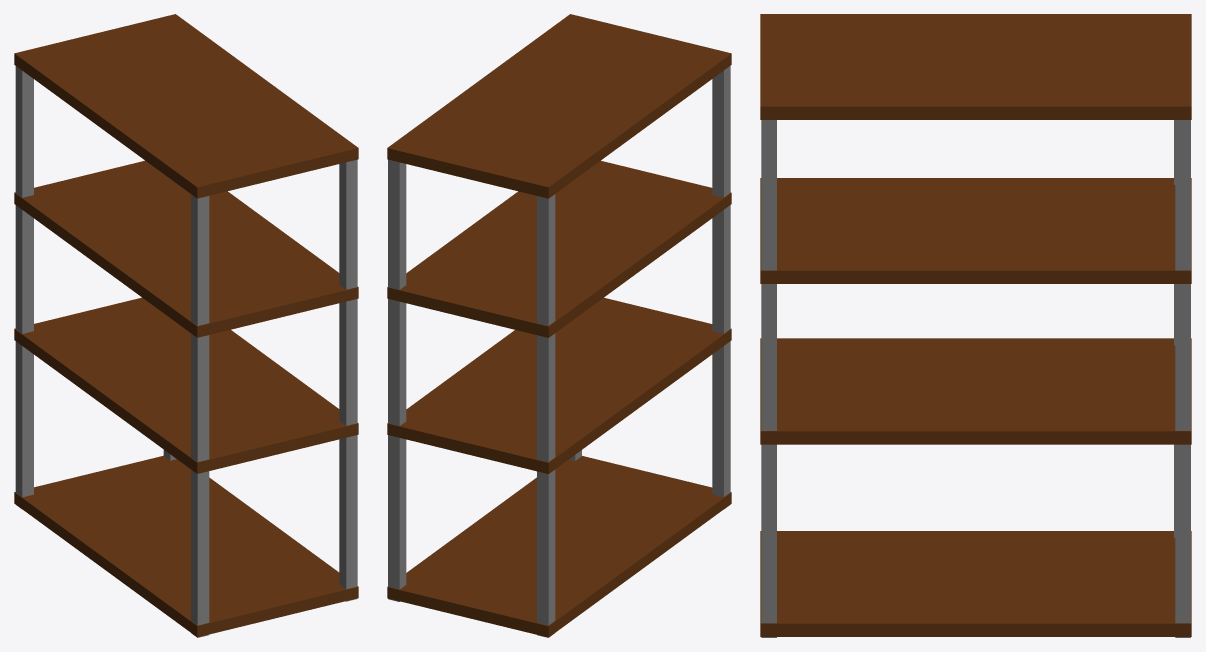
File: Analog_TV_Stand.fbx
The picture shows the model from 3 angles, left to right: view 1: azimuth 30°, elevation 25°; view 2: azimuth 150°, elevation 25°; view 3: azimuth 270°, elevation 25°; orthographic projection. The views are drawn at different scales.
Visible parts, largest first — view 1: Cube, Cube.004, Cube.002, Cube.003, Cube.007, Cube.006, Cube.008; view 2: Cube, Cube.004, Cube.002, Cube.003, Cube.008, Cube.005, Cube.007; view 3: Cube, Cube.003, Cube.002, Cube.004, Cube.005, Cube.006.
Boxes of the visible parts, <box> form: Cube: <box>14,14,358,198</box>; Cube.004: <box>14,455,358,637</box>; Cube.002: <box>14,160,358,337</box>; Cube.003: <box>14,297,358,473</box>; Cube.007: <box>191,194,209,637</box>; Cube.006: <box>339,159,357,601</box>; Cube.008: <box>15,66,33,509</box>; Cube: <box>387,14,731,198</box>; Cube.004: <box>387,456,731,637</box>; Cube.002: <box>387,160,731,337</box>; Cube.003: <box>387,297,731,473</box>; Cube.008: <box>537,194,555,637</box>; Cube.005: <box>388,159,406,601</box>; Cube.007: <box>712,66,730,508</box>; Cube: <box>760,14,1191,119</box>; Cube.003: <box>760,338,1191,444</box>; Cube.002: <box>760,178,1191,283</box>; Cube.004: <box>760,531,1191,636</box>; Cube.005: <box>1175,120,1190,637</box>; Cube.006: <box>761,120,776,637</box>.
Bounding box in the file's own units: 199 × 530 × 390.
